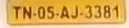character: (21, 5, 32, 20), (59, 5, 69, 20), (102, 4, 112, 19), (11, 5, 20, 20), (70, 4, 79, 19), (93, 4, 102, 19), (84, 4, 92, 19), (112, 4, 120, 19), (46, 5, 54, 19), (37, 6, 45, 19)
